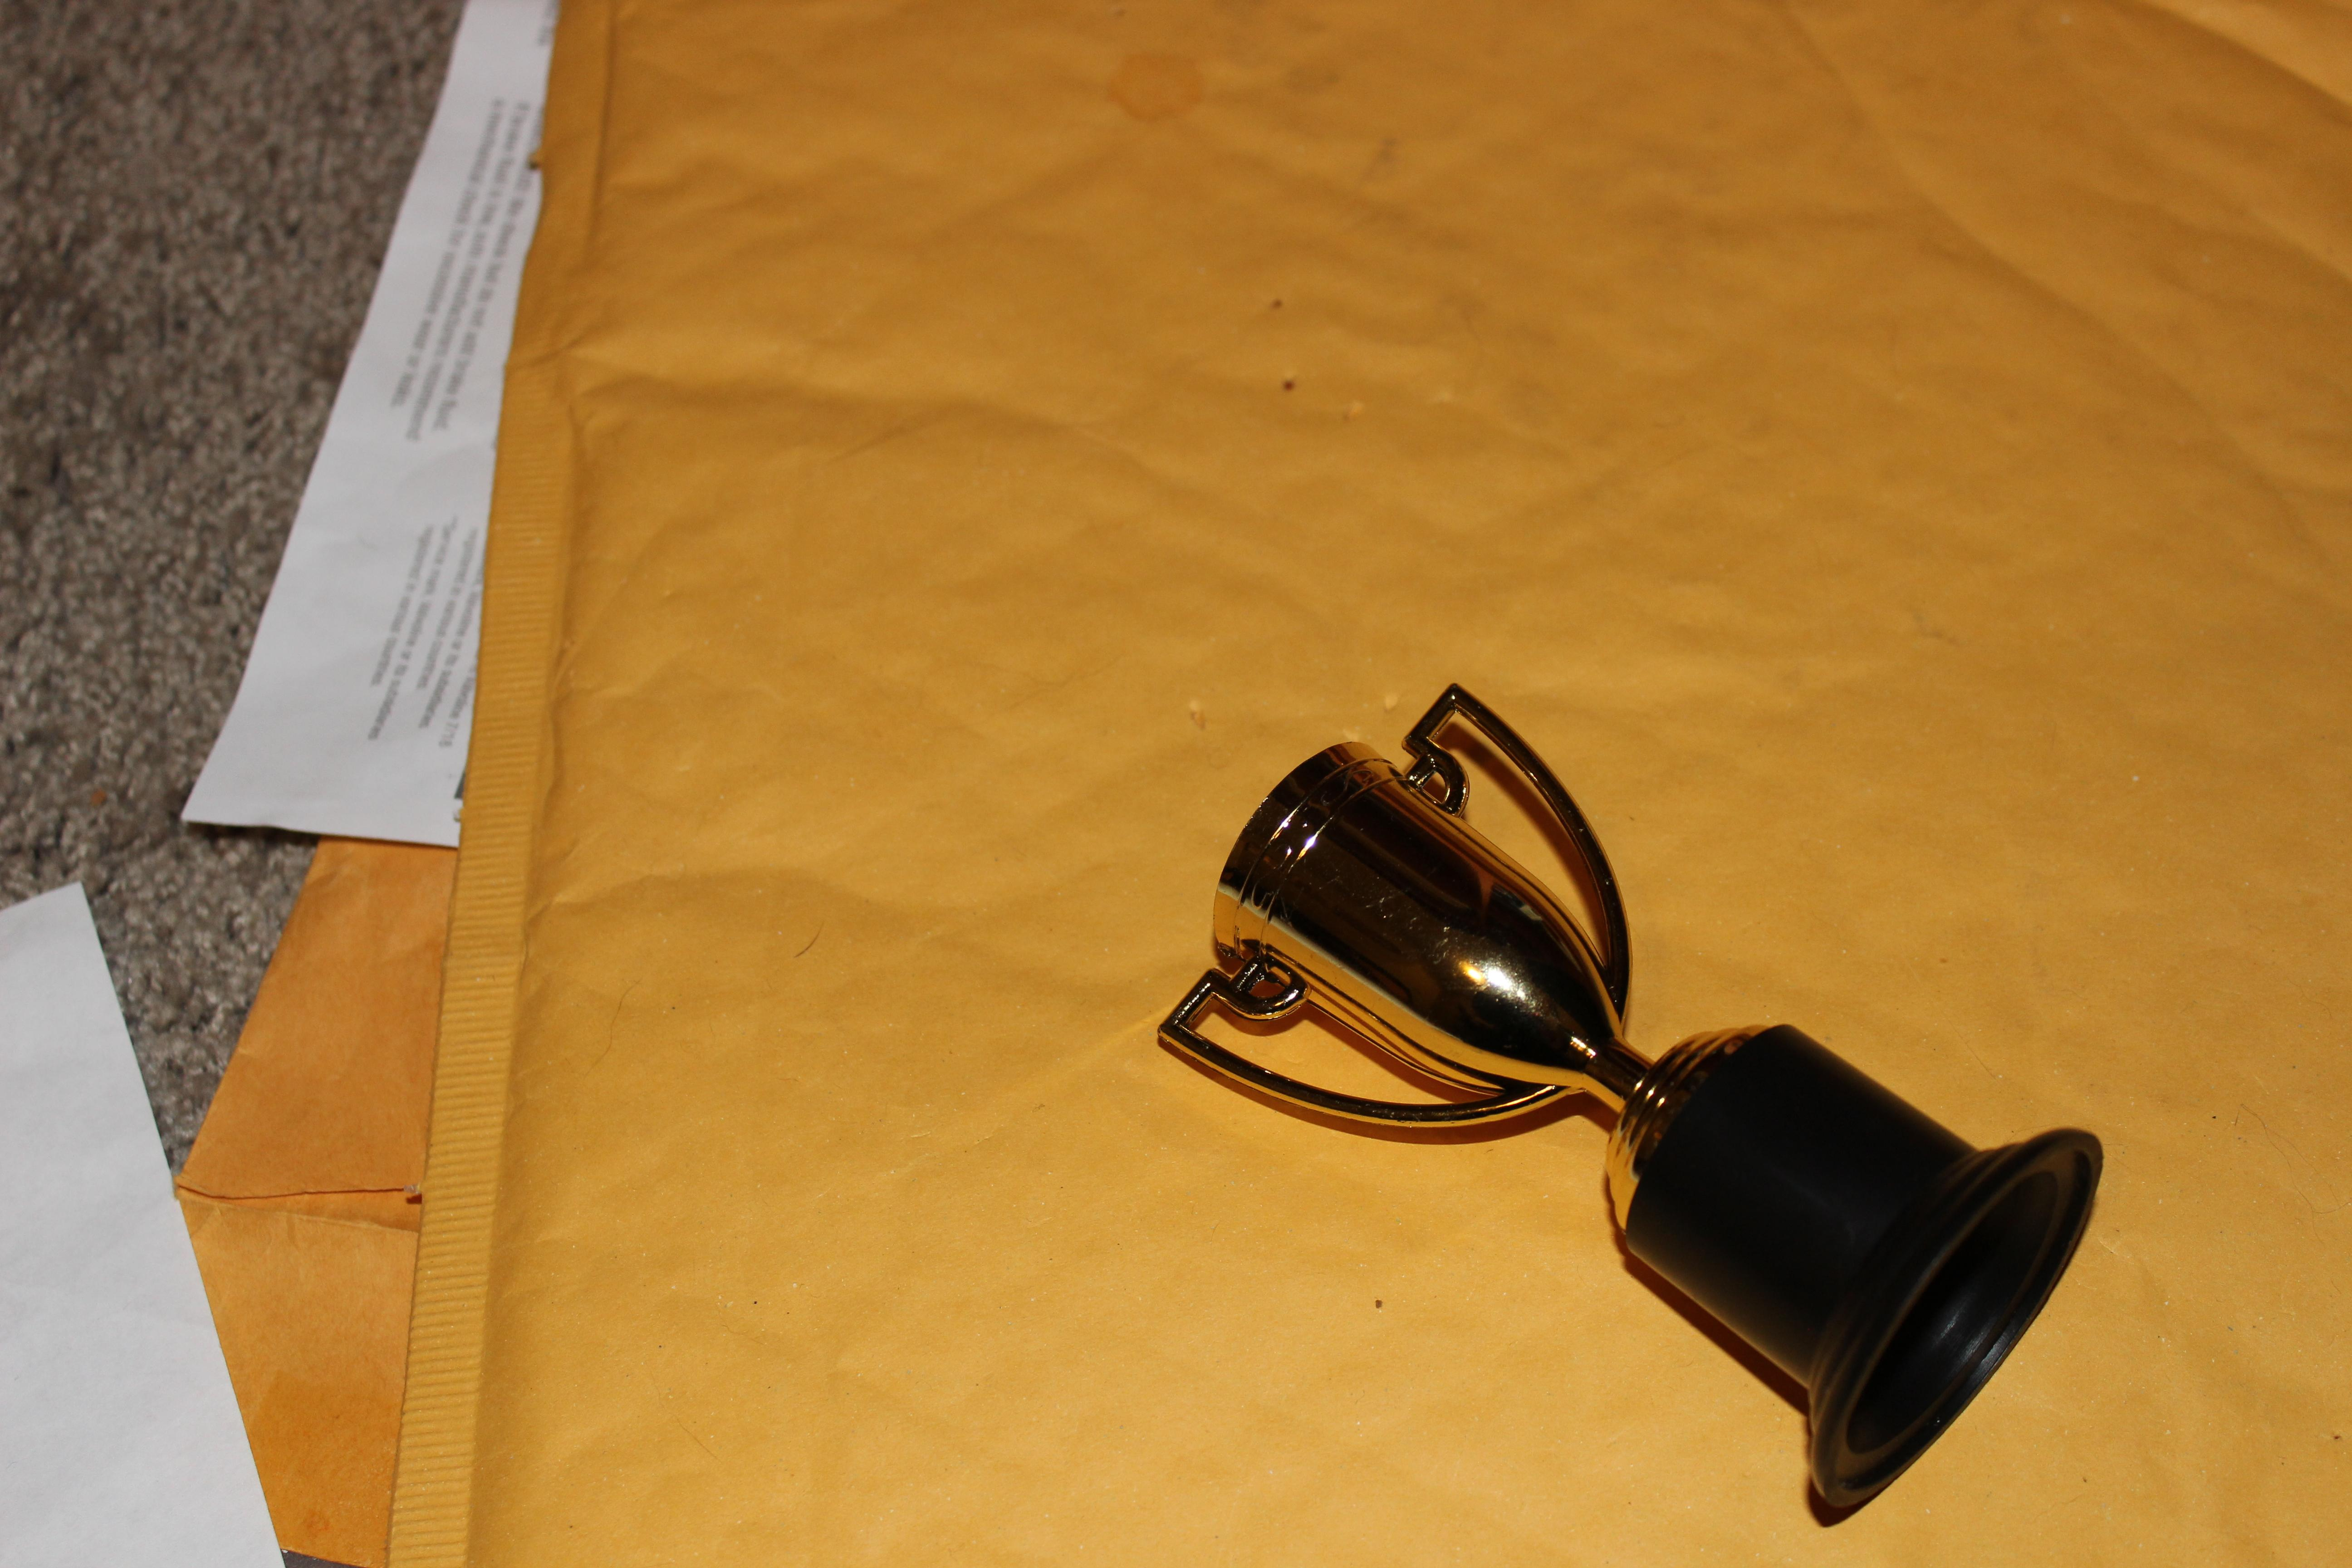trophy: (1120, 658, 2137, 1551)
